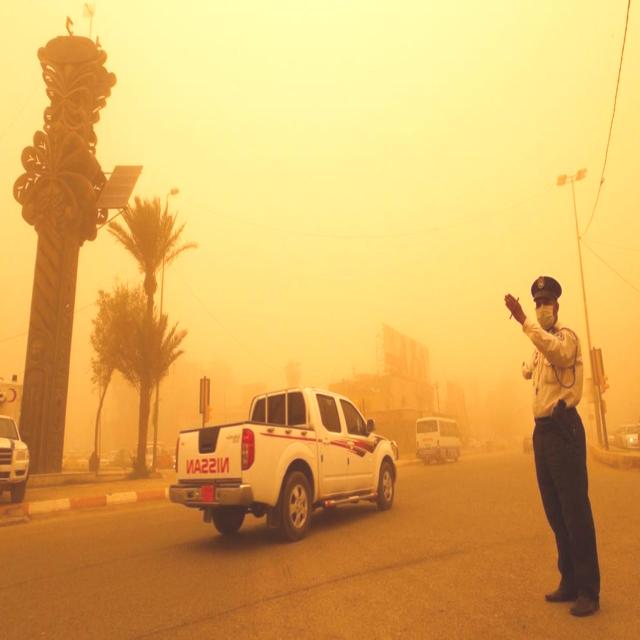Bus: (415, 415, 463, 467)
Truck: (167, 383, 400, 544)
